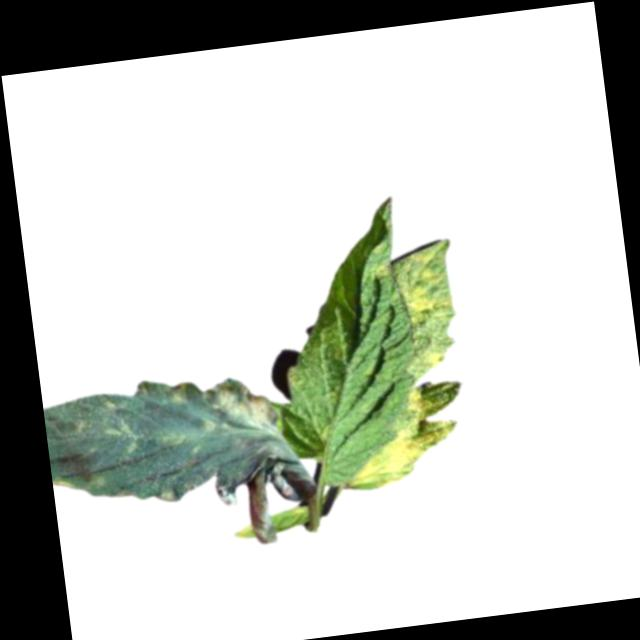Leaf_Mold: (337, 377, 472, 491), (391, 238, 465, 384), (203, 370, 282, 441), (162, 378, 191, 408)
